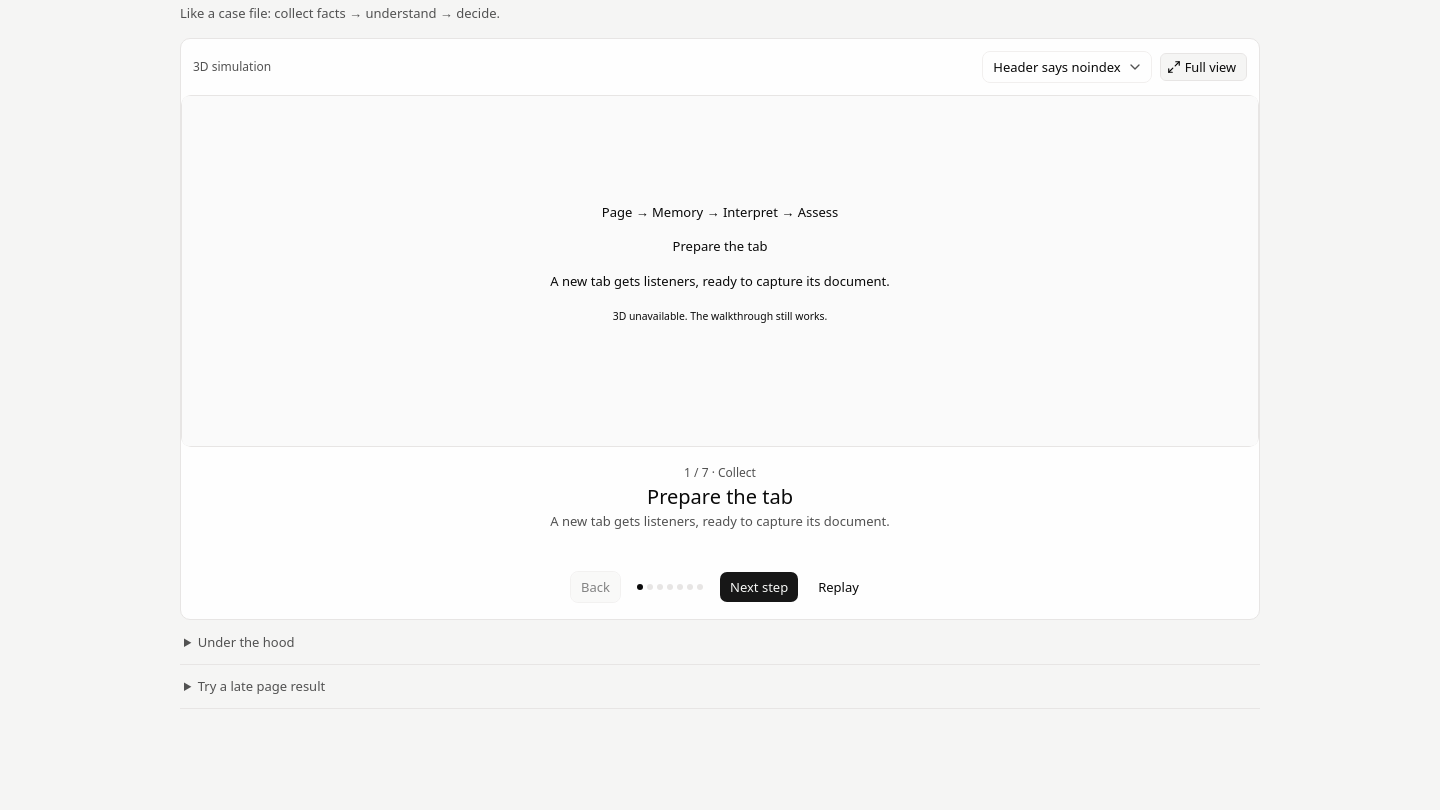
Test: PageSeoFoundation › rejects an old document result without changing the current document
Click the heading "Try a late page result" at (262, 686), box [198,677,325,695]
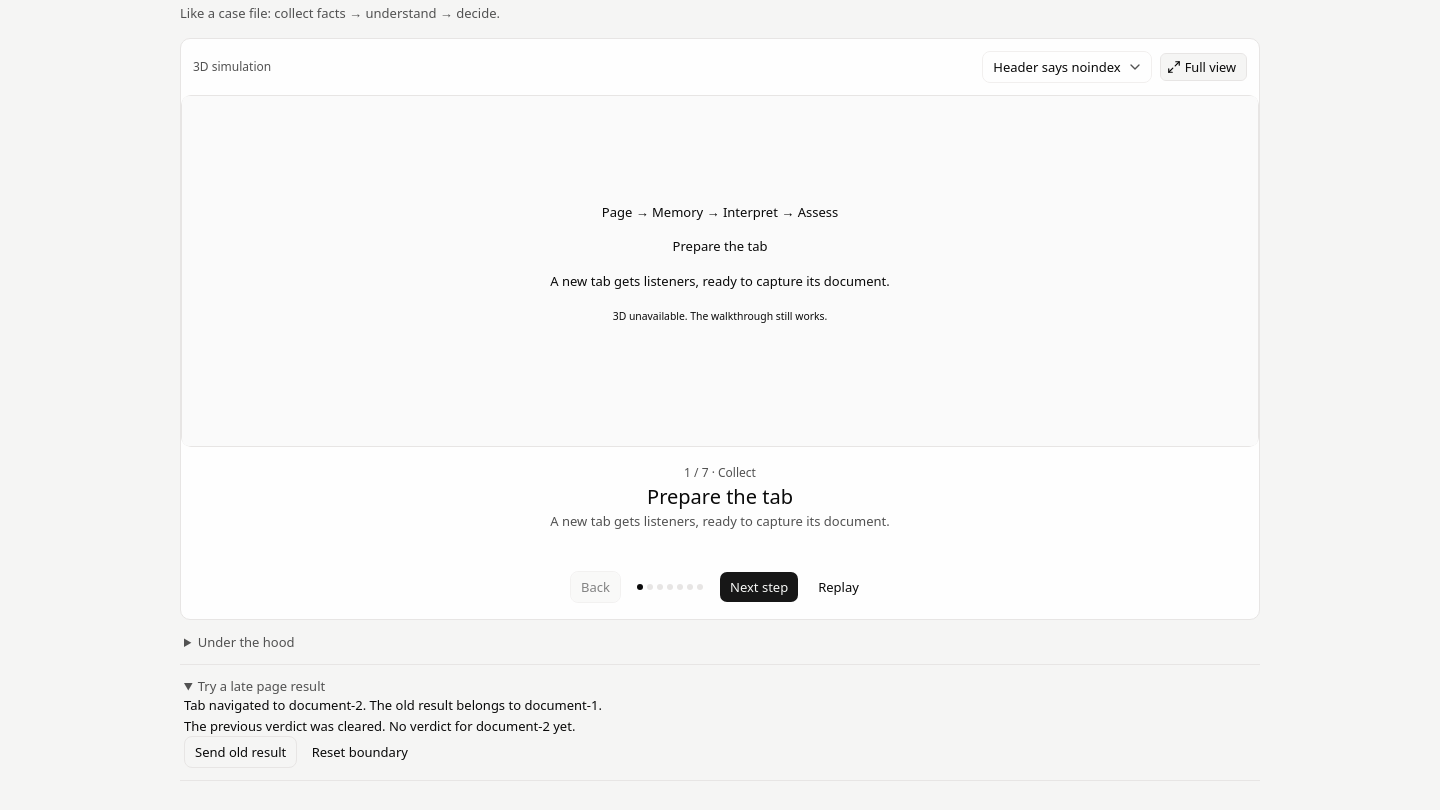
Click the button "Send old result" at (241, 752), box [184,736,297,768]
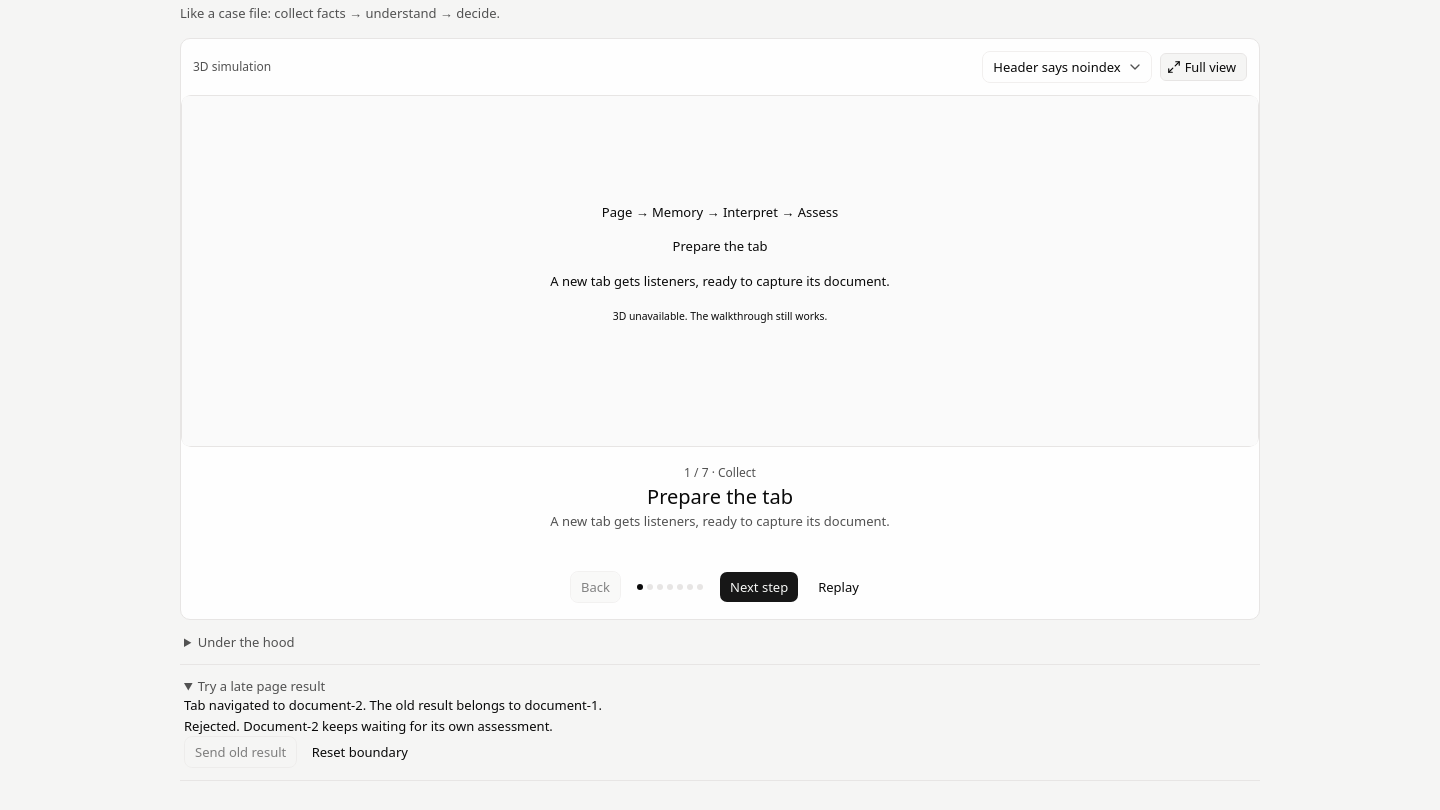
Now the text "Rejected. Document-2 keeps waiting for its own assessment." is shown, box [184,716,553,734]
Now the button "Send old result" is disabled, box [184,736,297,768]
Click the button "Reset boundary" at (360, 752), box [301,736,419,768]
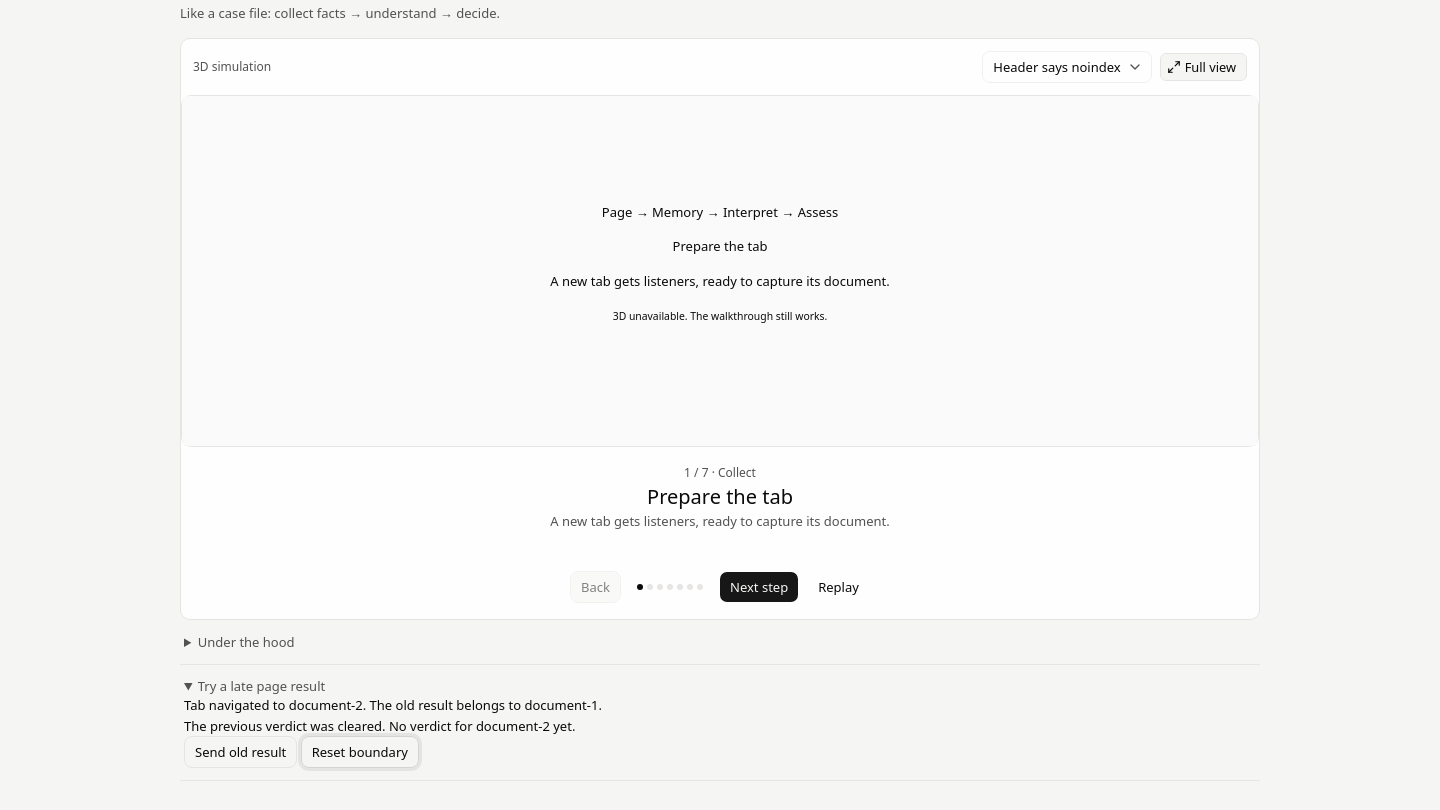
Now the button "Send old result" is enabled, box [184,736,297,768]
